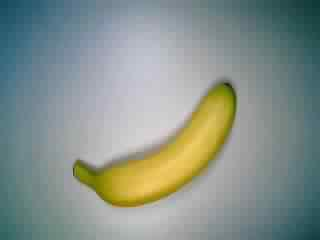banana: (68, 77, 241, 211)
